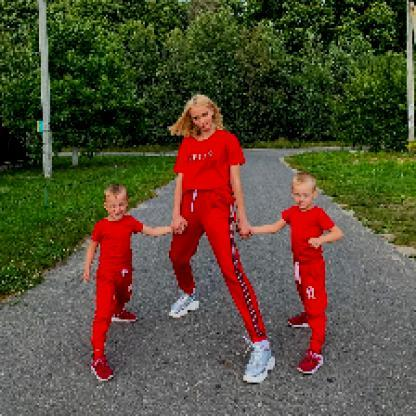child: (82, 183, 186, 382), (252, 173, 345, 376)
